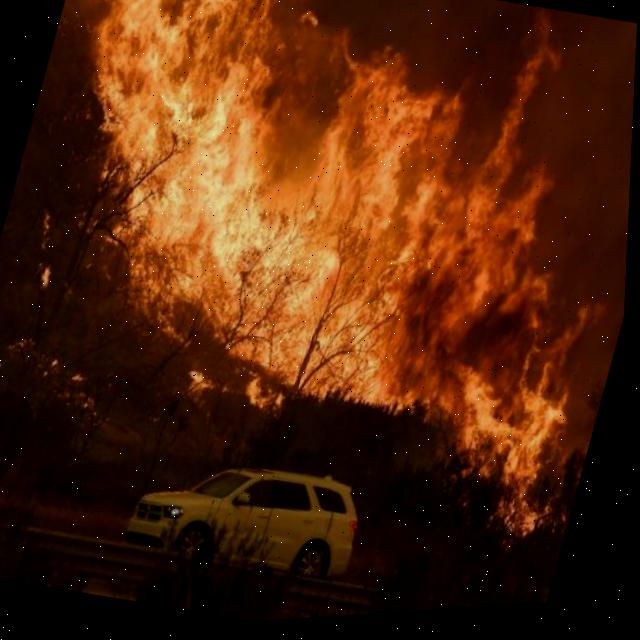fire: (124, 0, 638, 390), (67, 0, 206, 125), (437, 383, 578, 492)
smoke: (498, 30, 637, 296), (289, 0, 550, 114)
